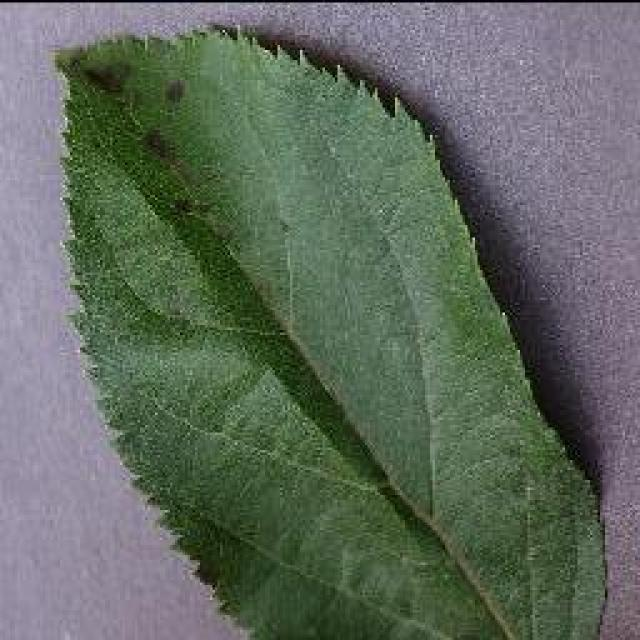apple scab disease: (50, 22, 612, 638)
